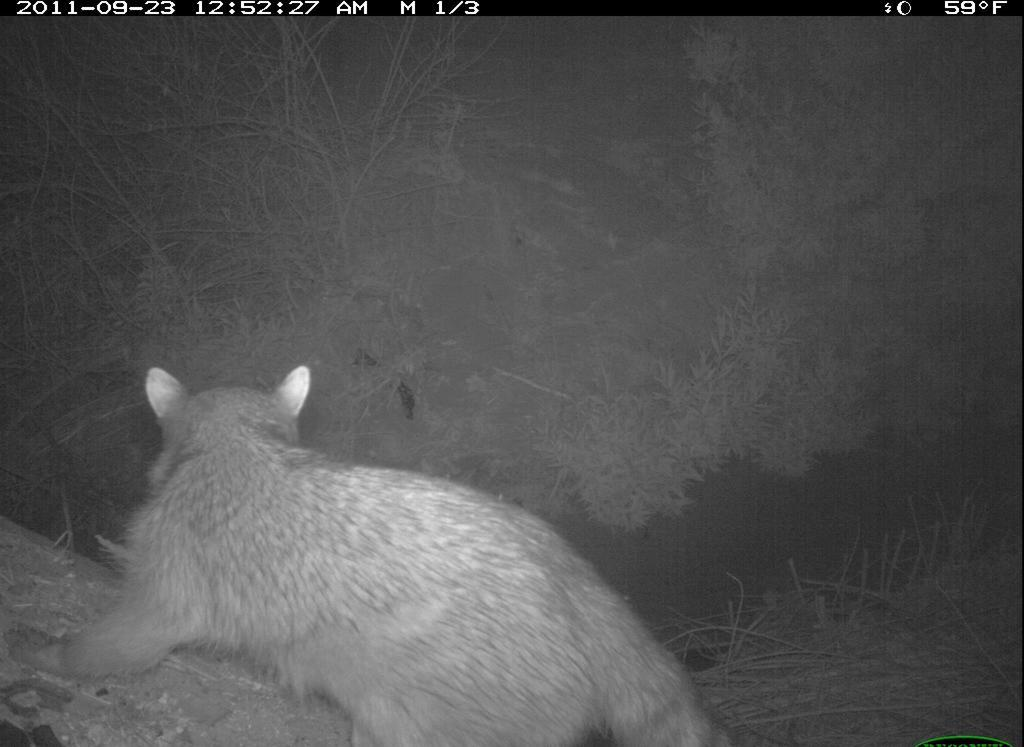raccoon: (8, 363, 740, 747)
